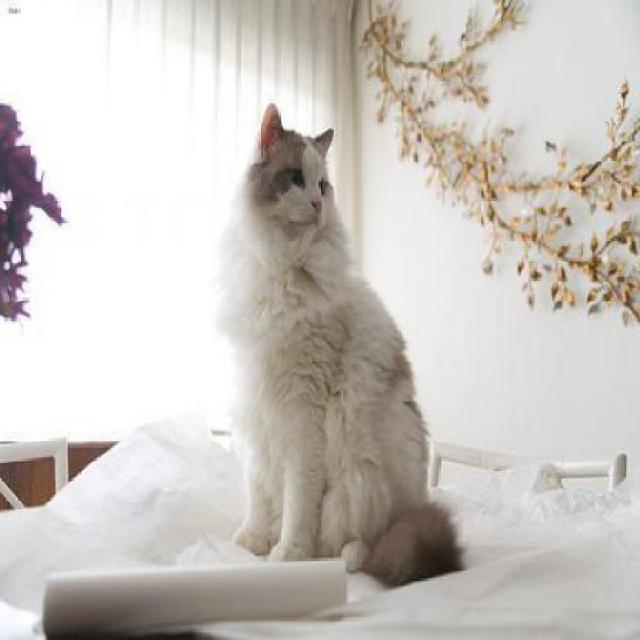cat: (224, 103, 465, 592)
